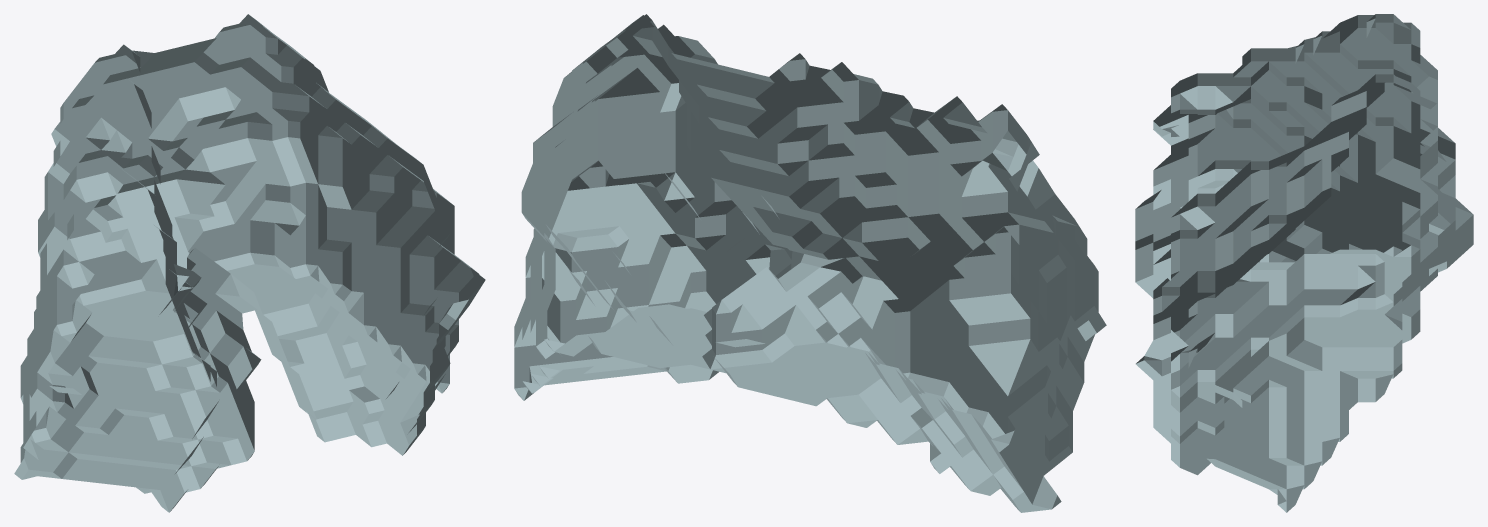
File: region_0175_ZL__zona_limitans_.glb
3 renders of one model, left to right at view 1: azimuth 30°, elevation 25°; view 2: azimuth 150°, elevation 25°; view 3: azimuth 270°, elevation 25°, orthographic. The views are drawn at different scales.
Parts seen in each view (by area): view 1: world; view 2: world; view 3: world.
Part boxes in pixels (bbox=[...]): world: bbox=[14, 14, 485, 512]; world: bbox=[514, 14, 1106, 512]; world: bbox=[1135, 14, 1473, 512].
Size of the model in its own units: 0.224 by 0.184 by 0.152.
